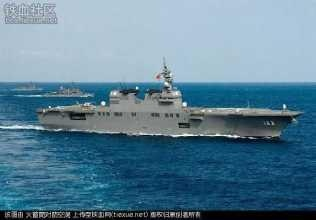warship: (38, 63, 302, 136)
